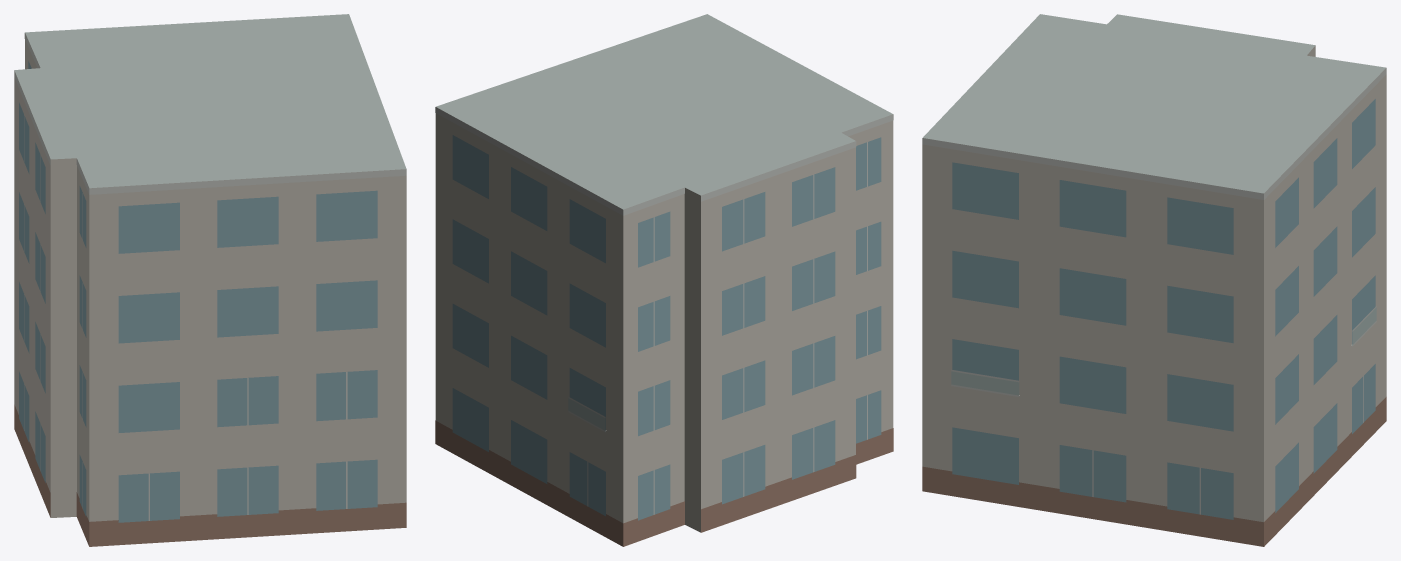
The model's file is survey-upis-33024145.glb.
3 views of the same model, side by side, from view 1: azimuth 30°, elevation 25°; view 2: azimuth 150°, elevation 25°; view 3: azimuth 270°, elevation 25° (orthographic). The views are drawn at different scales.
Parts seen in each view (by area): view 1: survey-upis-33024145.tmp; view 2: survey-upis-33024145.tmp; view 3: survey-upis-33024145.tmp.
Part boxes in pixels (bbox=[...]): survey-upis-33024145.tmp: bbox=[14, 14, 406, 546]; survey-upis-33024145.tmp: bbox=[435, 14, 893, 546]; survey-upis-33024145.tmp: bbox=[922, 14, 1386, 546].
Size of the model in its own units: 14.39 by 13.2 by 15.72.
